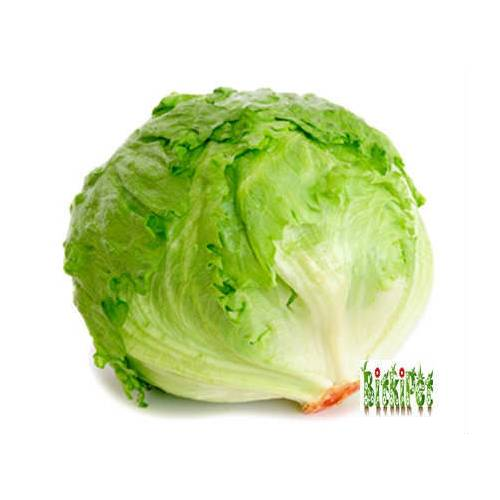Lettuce: (59, 82, 450, 419)
